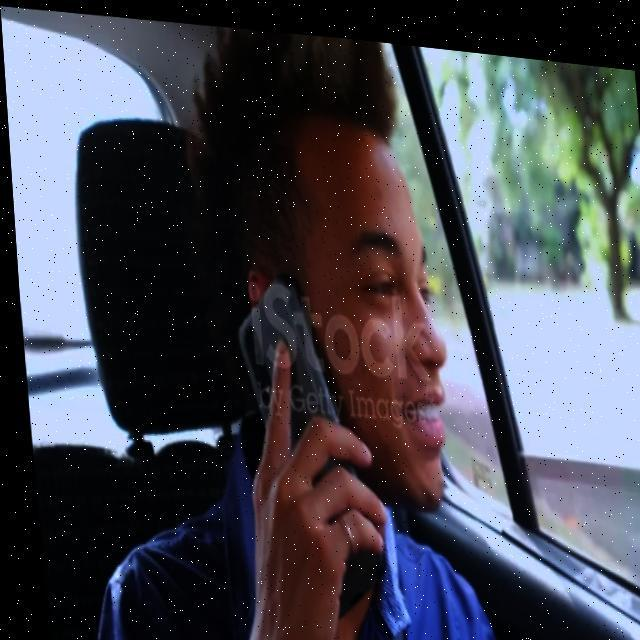PhoneCall: (226, 260, 379, 618)
